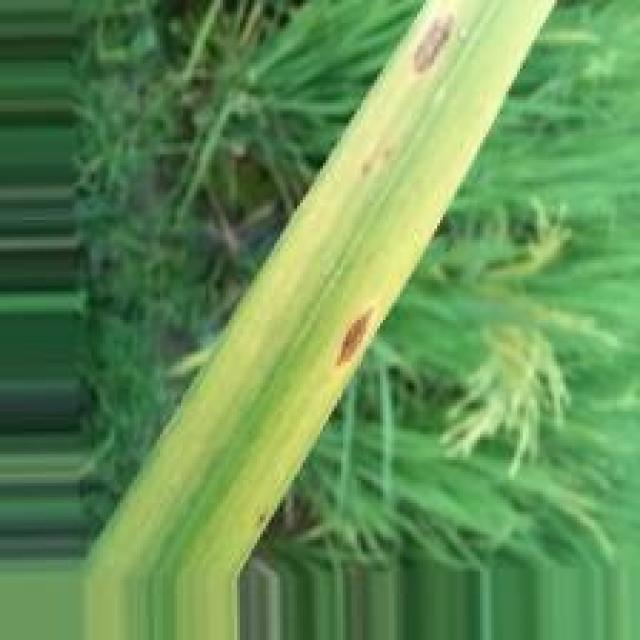Brown_Spot: (334, 301, 382, 377), (412, 6, 460, 76)
